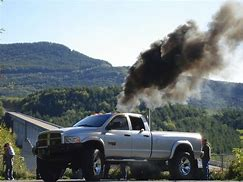smoke: (115, 1, 243, 109)
